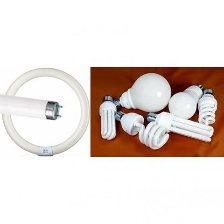light_bulb: (0, 64, 92, 160), (140, 108, 217, 144), (113, 109, 172, 152), (113, 72, 175, 112), (0, 90, 65, 123), (167, 81, 204, 124), (95, 94, 118, 142), (194, 85, 219, 127)
